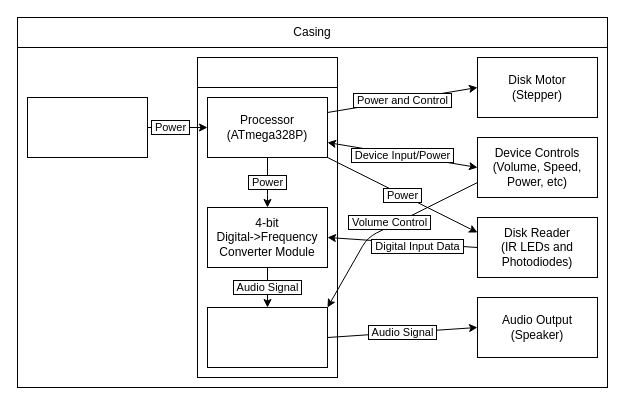
The diagram is 625 pixels wide and 405 high, and some of its shapes have lost their labels. The shapes that lost their labels are listed below. From the top down, each one's box as (x1, y1, x2, y2) in pixels, then its label:
(196, 56, 338, 88): PCB
(26, 96, 148, 158): Power Supply (Batteries)
(206, 306, 328, 368): Sound Control Module
